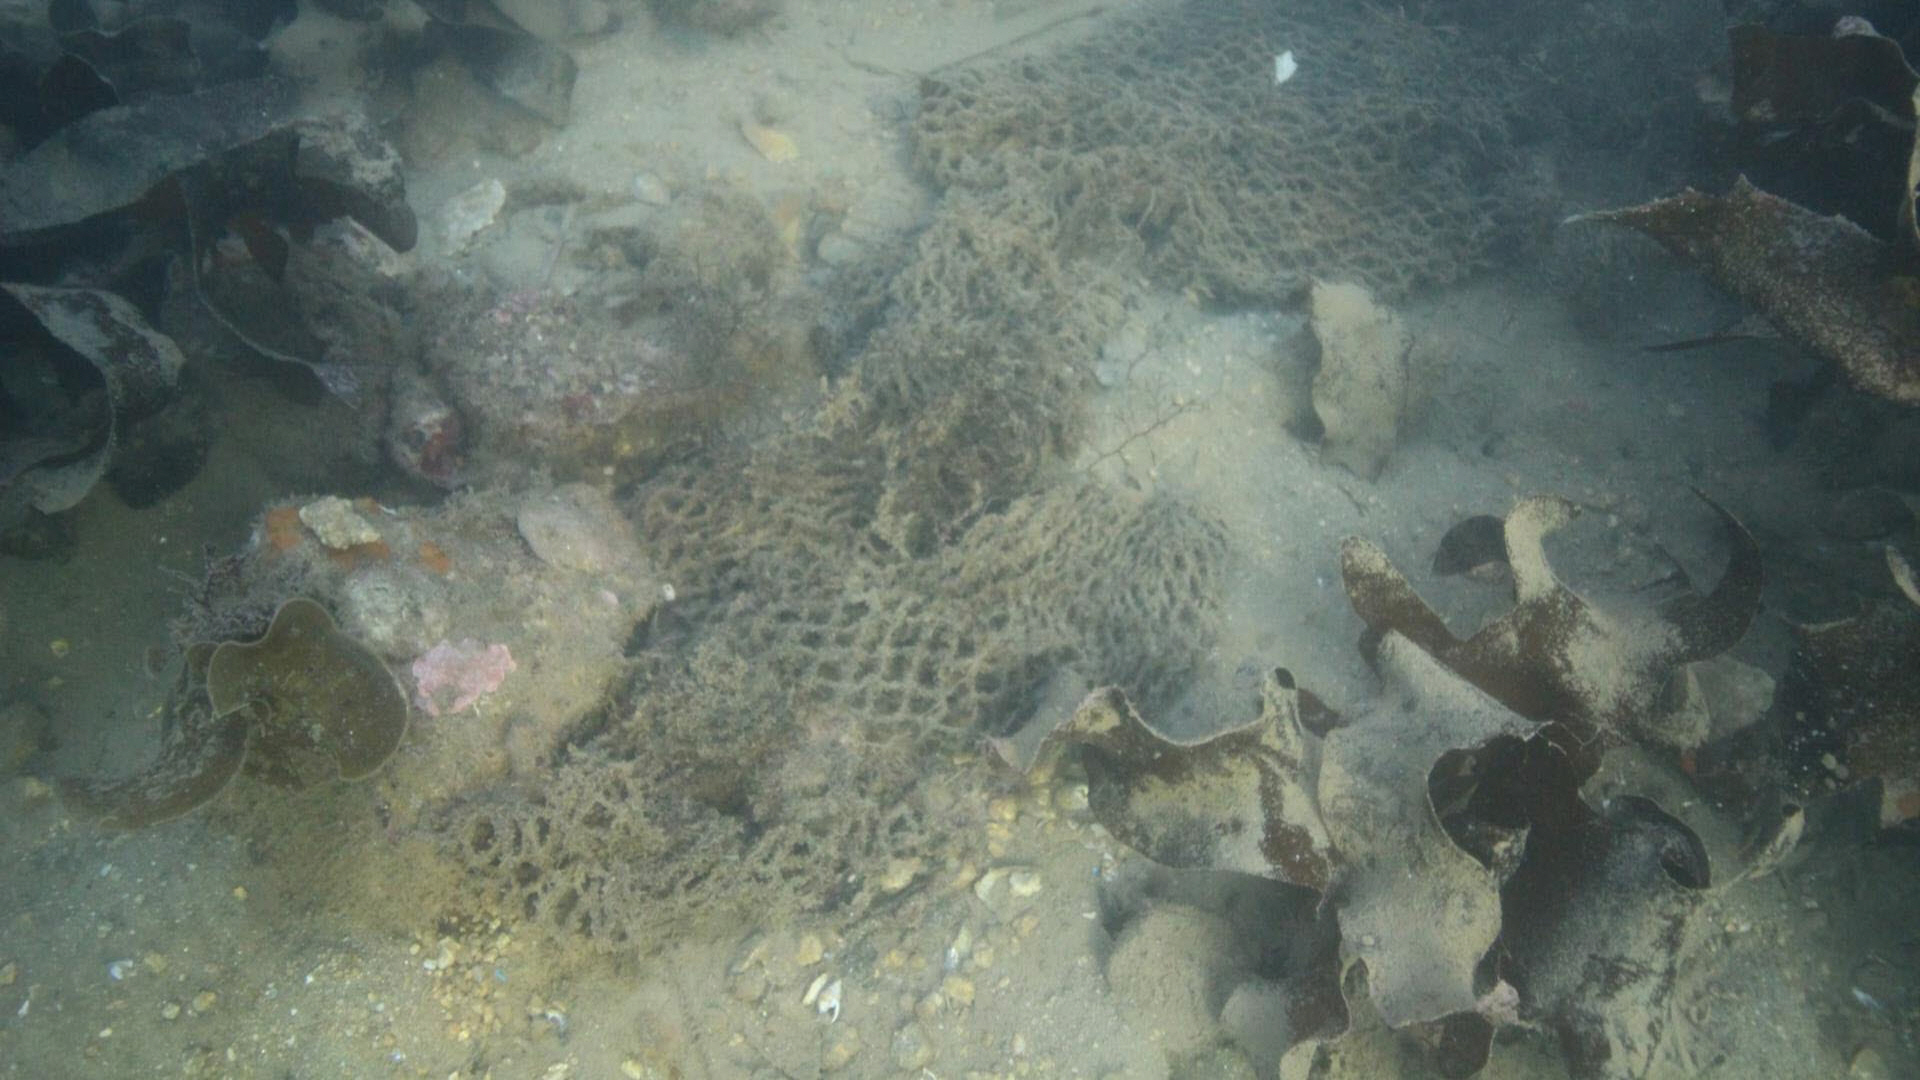fish net: (450, 0, 1524, 948)
